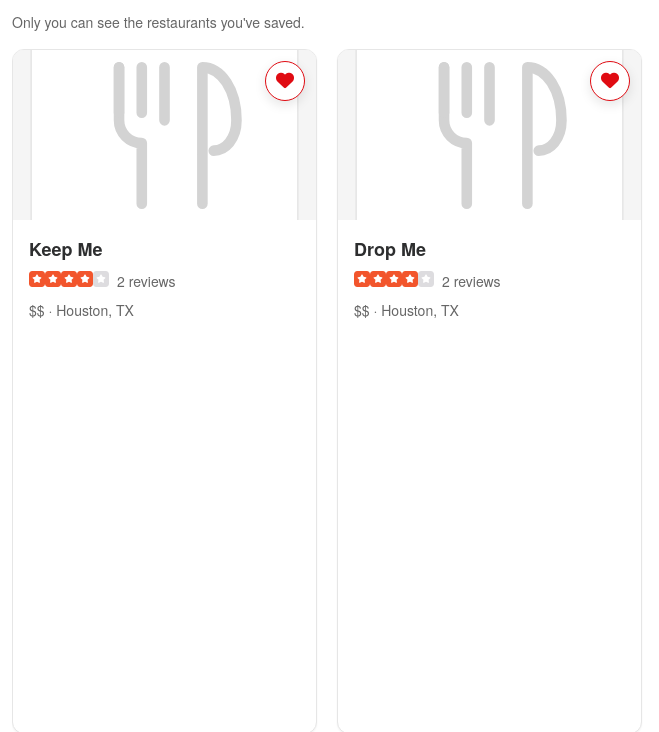
unsaving one takes it off the list
The image size is (659, 732).
Click the button named "Save Drop Me". click: point(610, 81)
box: [590,61,630,101]
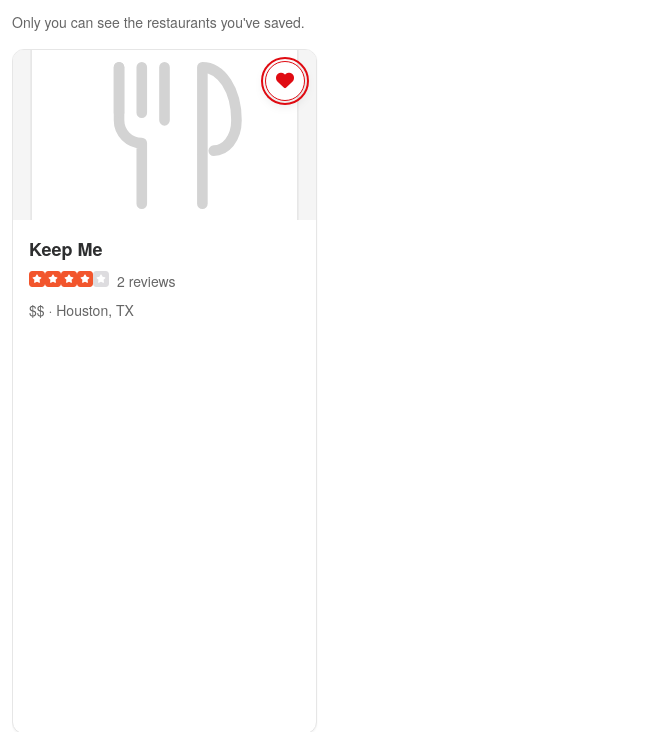
Expected: the text "Keep Me" is shown, [29,236,103,262]
Expected: the link "Drop Me" is gone
